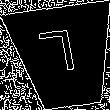L_S: (42, 29, 86, 84)
